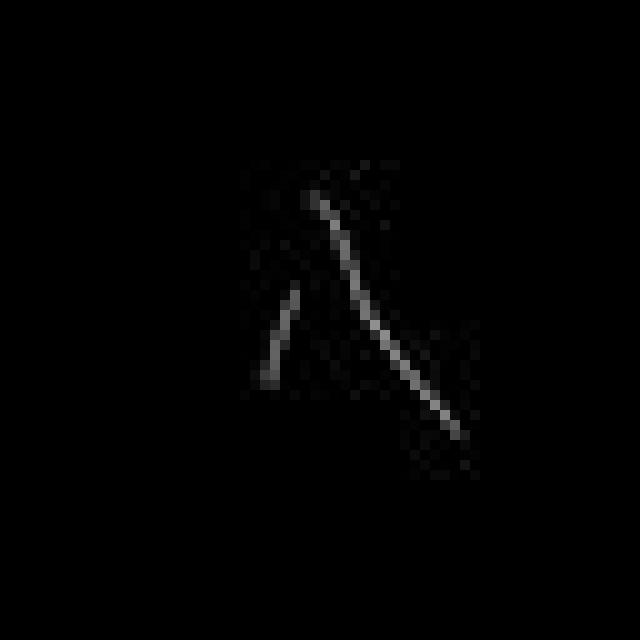8 -eight-: (253, 187, 481, 460)
